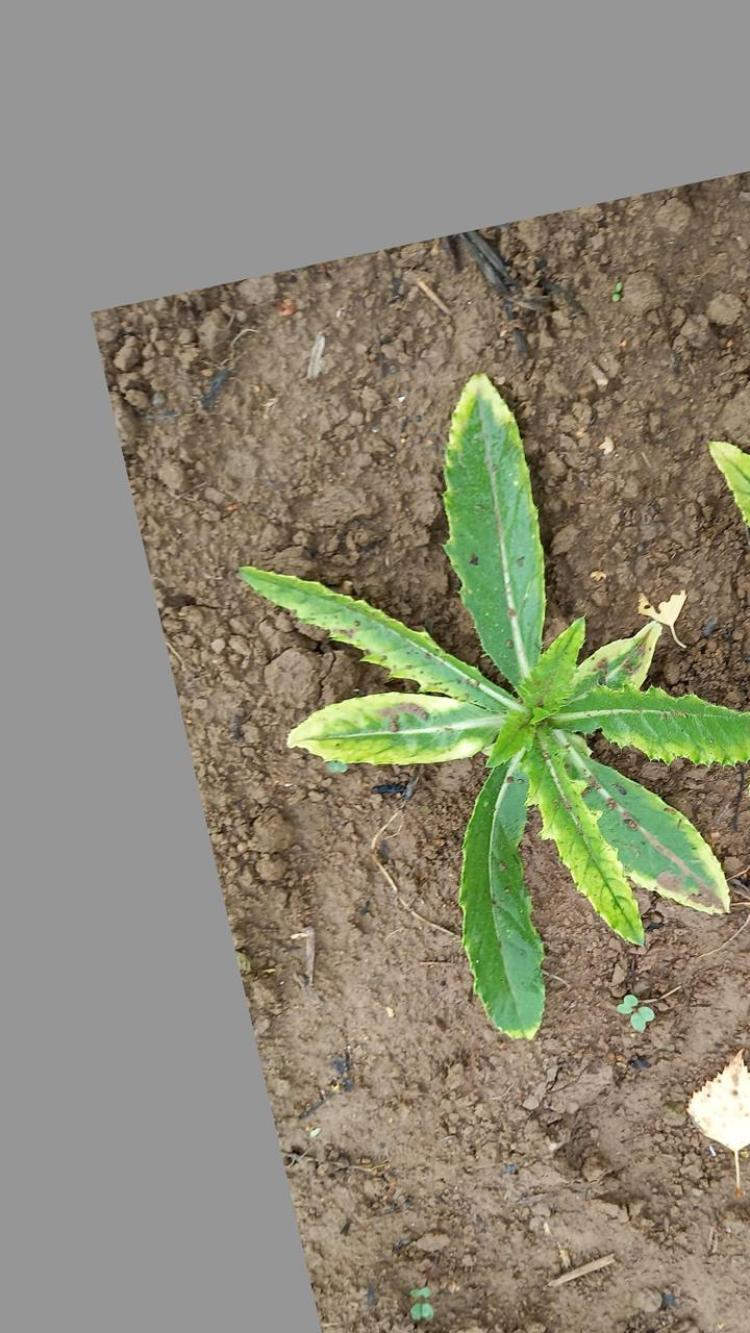bodyak: (246, 366, 750, 1050)
